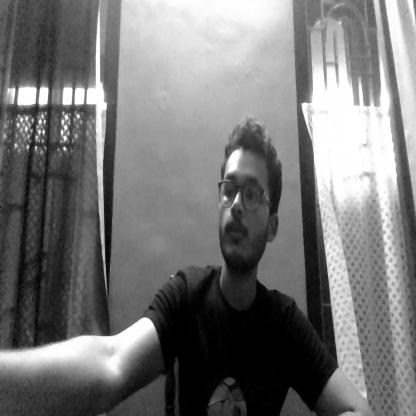Distracted: (208, 124, 272, 290)
